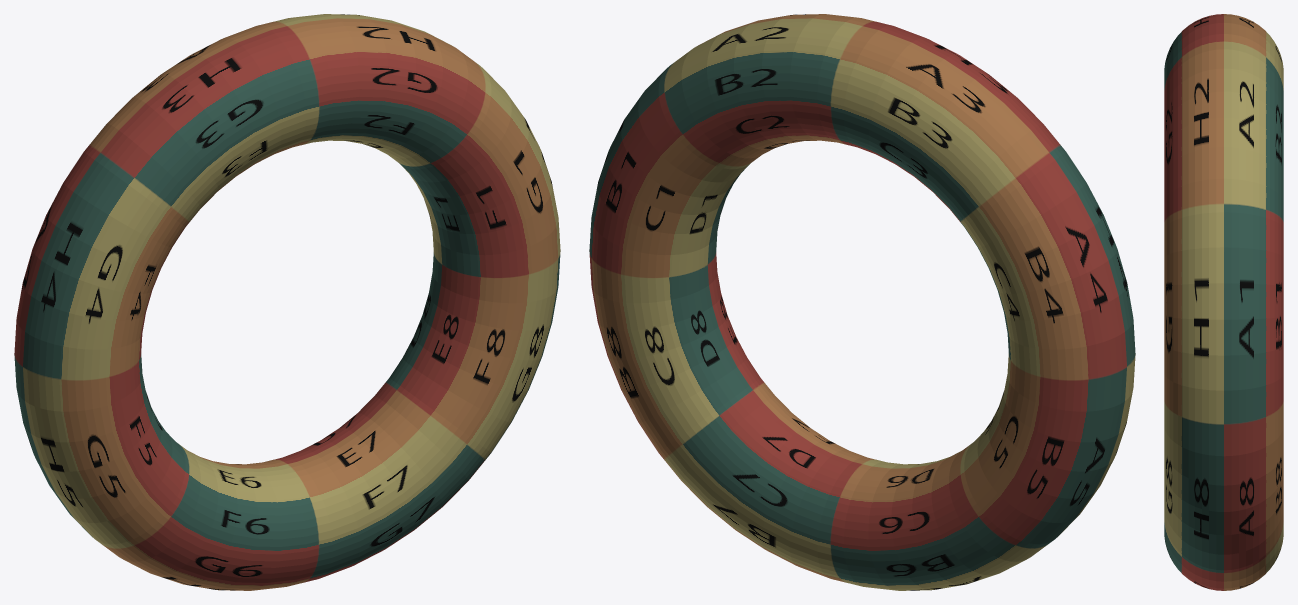
The model's file is texture_torus_R27_r20.glb.
3 renders of one model, left to right at view 1: azimuth 30°, elevation 25°; view 2: azimuth 150°, elevation 25°; view 3: azimuth 270°, elevation 25°, orthographic. The views are drawn at different scales.
Visible parts, largest first — view 1: world; view 2: world; view 3: world.
Part boxes in pixels (box(x1,y1,x2,y2)): world: box(14, 14, 560, 590); world: box(589, 14, 1135, 590); world: box(1164, 14, 1283, 590).
Bounding box in the file's own units: 35.33 × 35.26 × 7.32.
1 material, 1 textured.
